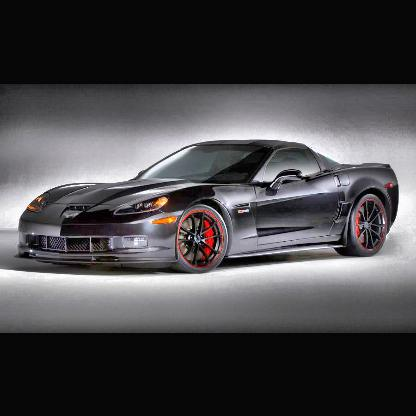Chevrolet Corvette ZR1 2012: (15, 136, 401, 274)
